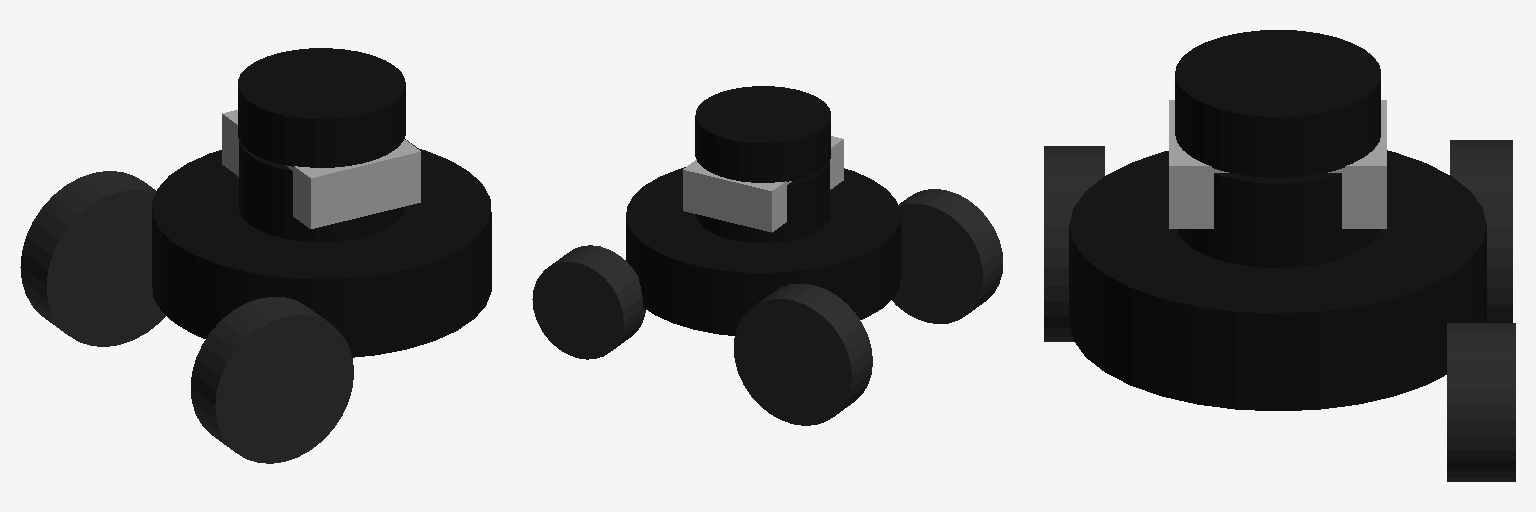
The robot description file, URDF, robot "evolved_robot":
<?xml version="1.0"?>
<robot name="evolved_robot">
  <material name="metal">
    <color rgba="0.7 0.7 0.7 1.0"/>
  </material>
  <material name="plastic">
    <color rgba="0.3 0.3 0.9 1.0"/>
  </material>
  <material name="rubber">
    <color rgba="0.1 0.1 0.1 1.0"/>
  </material>
  <material name="red">
    <color rgba="1.0 0.0 0.0 1.0"/>
  </material>
  <material name="wheel_material">
    <color rgba="0.2 0.2 0.2 1.0"/>
  </material>
  <link name="base_link">
    <visual>
      <geometry><cylinder radius="0.15577534863329562" length="0.08068832829829782"/></geometry>
      <material name="rubber"/>
    </visual>
    <collision>
      <geometry><cylinder radius="0.15577534863329562" length="0.08068832829829782"/></geometry>
    </collision>
    <inertial>
      <mass value="5.0"/>
      <inertia ixx="0.0660904033742069" ixy="0" ixz="0" 
               iyy="0.0660904033742069" iyz="0" 
               izz="0.12132979620912399"/>
    </inertial>
  </link>
  <link name="link1">
    <visual>
      <geometry><cylinder radius="0.07595597852159666" length="0.13990125952373855"/></geometry>
      <material name="rubber"/>
    </visual>
    <collision>
      <geometry><cylinder radius="0.07595597852159666" length="0.13990125952373855"/></geometry>
    </collision>
    <inertial>
      <mass value="0.5"/>
      <inertia ixx="0.0030733578696540177" ixy="0" ixz="0" 
               iyy="0.0030733578696540177" iyz="0" 
               izz="0.002884655336586627"/>
    </inertial>
  </link>
  <joint name="joint1" type="prismatic">
    <parent link="base_link"/>
    <child link="link1"/>
    <origin xyz="0 0 0.04034416414914891" rpy="0 0 0"/>
    <axis xyz="-0.7687004047399717 -0.3726816464324792 0.5198154270171098"/>
    <dynamics damping="0.7765132943335169" friction="0.1"/>
    <limit lower="-1.7815898141132733" upper="1.2717079639294546" effort="100" velocity="100"/>
  </joint>
  <link name="link2">
    <visual>
      <geometry>
        <cylinder radius="0.05962278007258792" length="0.05091720566736713"/>
      </geometry>
      <material name="wheel_material"/>
    </visual>
    <collision>
      <geometry>
        <cylinder radius="0.05962278007258792" length="0.05091720566736713"/>
      </geometry>
    </collision>
    <inertial>
      <mass value="1.0"/>
      <inertia ixx="0.0011047657953104605" ixy="0" ixz="0" 
               iyy="0.0011047657953104605" iyz="0" 
               izz="0.0017774379517920937"/>
    </inertial>
  </link>
  <joint name="joint2" type="continuous">
    <parent link="base_link"/>
    <child link="link2"/>
    <origin xyz="0.13985519542031713 0.15169550184627412 -0.04034416414914891" rpy="1.5708 0 0"/>
    <axis xyz="0 1 0"/>
    <dynamics damping="0.6237323492205411" friction="0.1"/>
  </joint>
  <link name="link3">
    <visual>
      <geometry><box size="0.11700741769070341 0.16250170005777426 0.05155470705773513"/></geometry>
      <material name="metal"/>
    </visual>
    <collision>
      <geometry><box size="0.11700741769070341 0.16250170005777426 0.05155470705773513"/></geometry>
    </collision>
    <inertial>
      <mass value="0.5"/>
      <inertia ixx="0.0024220575284563096" ixy="0" ixz="0" 
               iyy="0.0013623853012046348" iyz="0" 
               izz="0.003341461526359464"/>
    </inertial>
  </link>
  <joint name="joint3" type="prismatic">
    <parent link="base_link"/>
    <child link="link3"/>
    <origin xyz="0 0 0.09034416414914892" rpy="0 0 0"/>
    <axis xyz="0.19961472326399954 0.8663541679548998 -0.45780390771968105"/>
    <dynamics damping="0.8238408978236413" friction="0.1"/>
    <limit lower="-0.7345191566587939" upper="1.2169395730998822" effort="100" velocity="100"/>
  </joint>
  <link name="link4">
    <visual>
      <geometry>
        <cylinder radius="0.07741305339524476" length="0.04755214427637371"/>
      </geometry>
      <material name="wheel_material"/>
    </visual>
    <collision>
      <geometry>
        <cylinder radius="0.07741305339524476" length="0.04755214427637371"/>
      </geometry>
    </collision>
    <inertial>
      <mass value="1.0"/>
      <inertia ixx="0.001686629077767176" ixy="0" ixz="0" 
               iyy="0.001686629077767176" iyz="0" 
               izz="0.0029963904179875086"/>
    </inertial>
  </link>
  <joint name="joint4" type="continuous">
    <parent link="base_link"/>
    <child link="link4"/>
    <origin xyz="-0.13985519542031713 0.15169550184627412 -0.04034416414914891" rpy="1.5708 0 0"/>
    <axis xyz="0 1 0"/>
    <dynamics damping="0.4452985084493982" friction="0.1"/>
  </joint>
  <link name="link5">
    <visual>
      <geometry>
        <cylinder radius="0.07342839007796728" length="0.04546495489214325"/>
      </geometry>
      <material name="wheel_material"/>
    </visual>
    <collision>
      <geometry>
        <cylinder radius="0.07342839007796728" length="0.04546495489214325"/>
      </geometry>
    </collision>
    <inertial>
      <mass value="1.0"/>
      <inertia ixx="0.0015201872943059161" ixy="0" ixz="0" 
               iyy="0.0015201872943059161" iyz="0" 
               izz="0.002695864234721062"/>
    </inertial>
  </link>
  <joint name="joint5" type="continuous">
    <parent link="base_link"/>
    <child link="link5"/>
    <origin xyz="-0.13985519542031713 -0.15169550184627412 -0.04034416414914891" rpy="1.5708 0 0"/>
    <axis xyz="0 1 0"/>
    <dynamics damping="0.45649072620437836" friction="0.1"/>
  </joint>
  <link name="link6">
    <visual>
      <geometry><cylinder radius="0.07710931968884166" length="0.05023377694329437"/></geometry>
      <material name="rubber"/>
    </visual>
    <collision>
      <geometry><cylinder radius="0.07710931968884166" length="0.05023377694329437"/></geometry>
    </collision>
    <inertial>
      <mass value="0.5"/>
      <inertia ixx="0.001696747824551384" ixy="0" ixz="0" 
               iyy="0.001696747824551384" iyz="0" 
               izz="0.002972923591437992"/>
    </inertial>
  </link>
  <joint name="joint6" type="revolute">
    <parent link="base_link"/>
    <child link="link6"/>
    <origin xyz="0 0 0.1403441641491489" rpy="0 0 0"/>
    <axis xyz="0.0 -1.0 0.0"/>
    <dynamics damping="0.5123224953931355" friction="0.1"/>
    <limit lower="-1.3845749974452444" upper="1.0457040159370472" effort="100" velocity="100"/>
  </joint>
</robot>

--- What the picture shows (computed from the rendered views, not written in the file) ---
Views: 3 orthographic renders of the robot side by side, from view 1: azimuth 30°, elevation 25°; view 2: azimuth 150°, elevation 25°; view 3: azimuth 270°, elevation 25°.
Model evolved_robot with 7 links and 6 joints (1 revolute, 3 continuous, 2 prismatic), rooted at base_link, posed all joints at 0.
Visible links, largest first — view 1: base_link, link5, link4, link6, link3, link1; view 2: base_link, link4, link6, link5, link2, link3, link1; view 3: base_link, link6, link1, link2, link3, link4, link5.
Boxes of the visible links, x1,y1,x2,y2 form: base_link: (152, 148, 491, 357); link5: (191, 297, 353, 463); link4: (20, 171, 165, 346); link6: (238, 48, 405, 167); link3: (222, 110, 420, 228); link1: (239, 140, 404, 241); base_link: (626, 167, 900, 335); link4: (734, 283, 872, 425); link6: (695, 86, 830, 182); link5: (892, 189, 1002, 323); link2: (532, 245, 645, 359); link3: (683, 136, 843, 232); link1: (696, 161, 829, 242); base_link: (1069, 150, 1486, 410); link6: (1175, 30, 1380, 177); link1: (1177, 173, 1378, 267); link2: (1447, 323, 1515, 481); link3: (1169, 100, 1386, 228); link4: (1450, 140, 1512, 322); link5: (1044, 146, 1104, 341).
Size in the robot's own frame: 0.4167 by 0.3516 by 0.2832 metres.
Geometry: primitives only (box / cylinder / sphere), no mesh files.